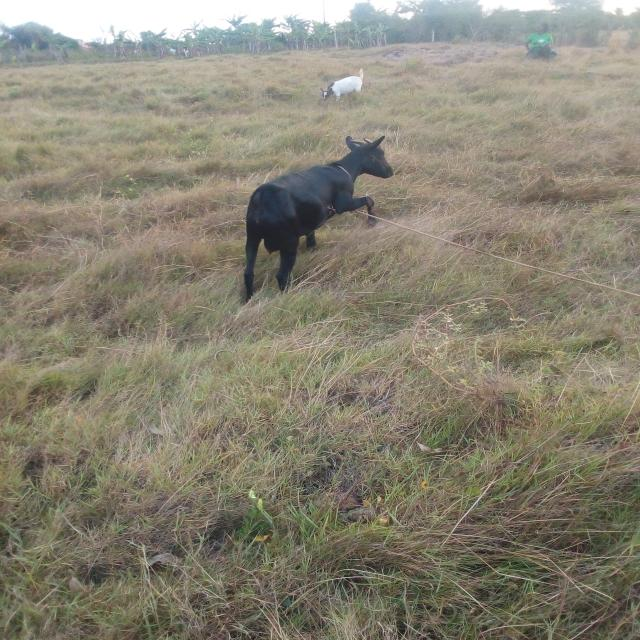goat: (204, 119, 431, 312)
